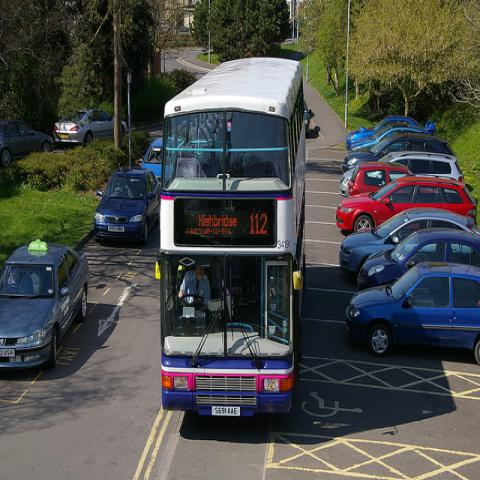bus: (162, 55, 309, 416)
car: (344, 260, 480, 364), (2, 243, 90, 370), (339, 207, 479, 278), (357, 227, 479, 294), (336, 175, 479, 232), (94, 165, 160, 245), (340, 131, 456, 173), (53, 108, 128, 149), (344, 162, 417, 199), (0, 120, 54, 166), (350, 124, 426, 152), (304, 94, 311, 134)
